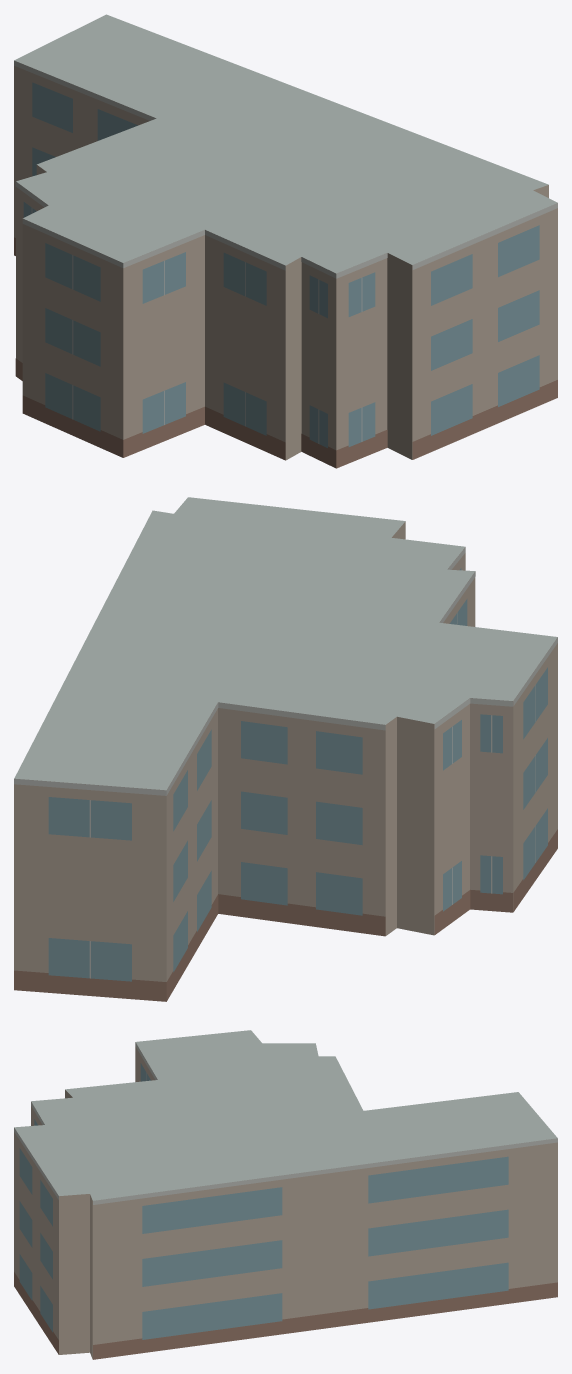
File: survey-upis-32919937.glb
3 views of the same model, one above another, from view 1: azimuth 30°, elevation 25°; view 2: azimuth 150°, elevation 25°; view 3: azimuth 270°, elevation 25° (orthographic). The views are drawn at different scales.
Visible parts, largest first — view 1: survey-upis-32919937.tmp; view 2: survey-upis-32919937.tmp; view 3: survey-upis-32919937.tmp.
Boxes of the visible parts, x1,y1,x2,y2 form: survey-upis-32919937.tmp: [14, 14, 557, 468]; survey-upis-32919937.tmp: [14, 497, 557, 1001]; survey-upis-32919937.tmp: [14, 1030, 557, 1359].
Bounding box in the file's own units: 21.1 × 9.15 × 28.38.
